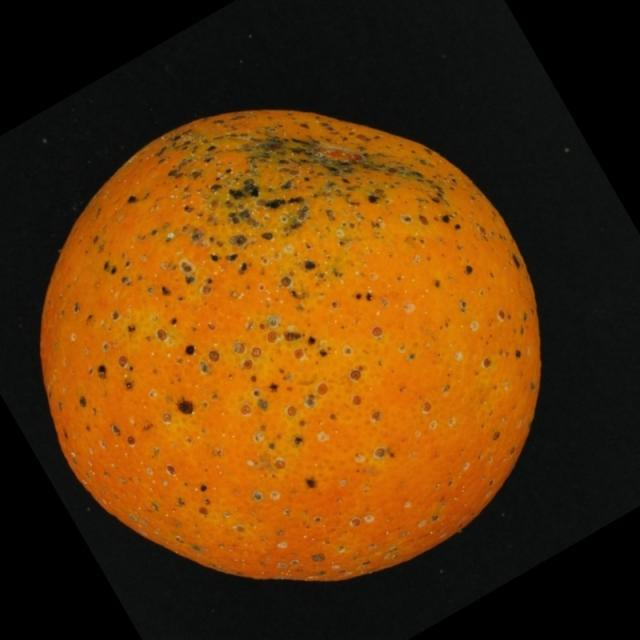grenning: (34, 92, 563, 592)
